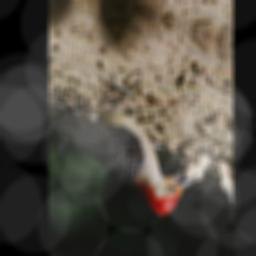Woodpecker: (60, 43, 210, 227)
